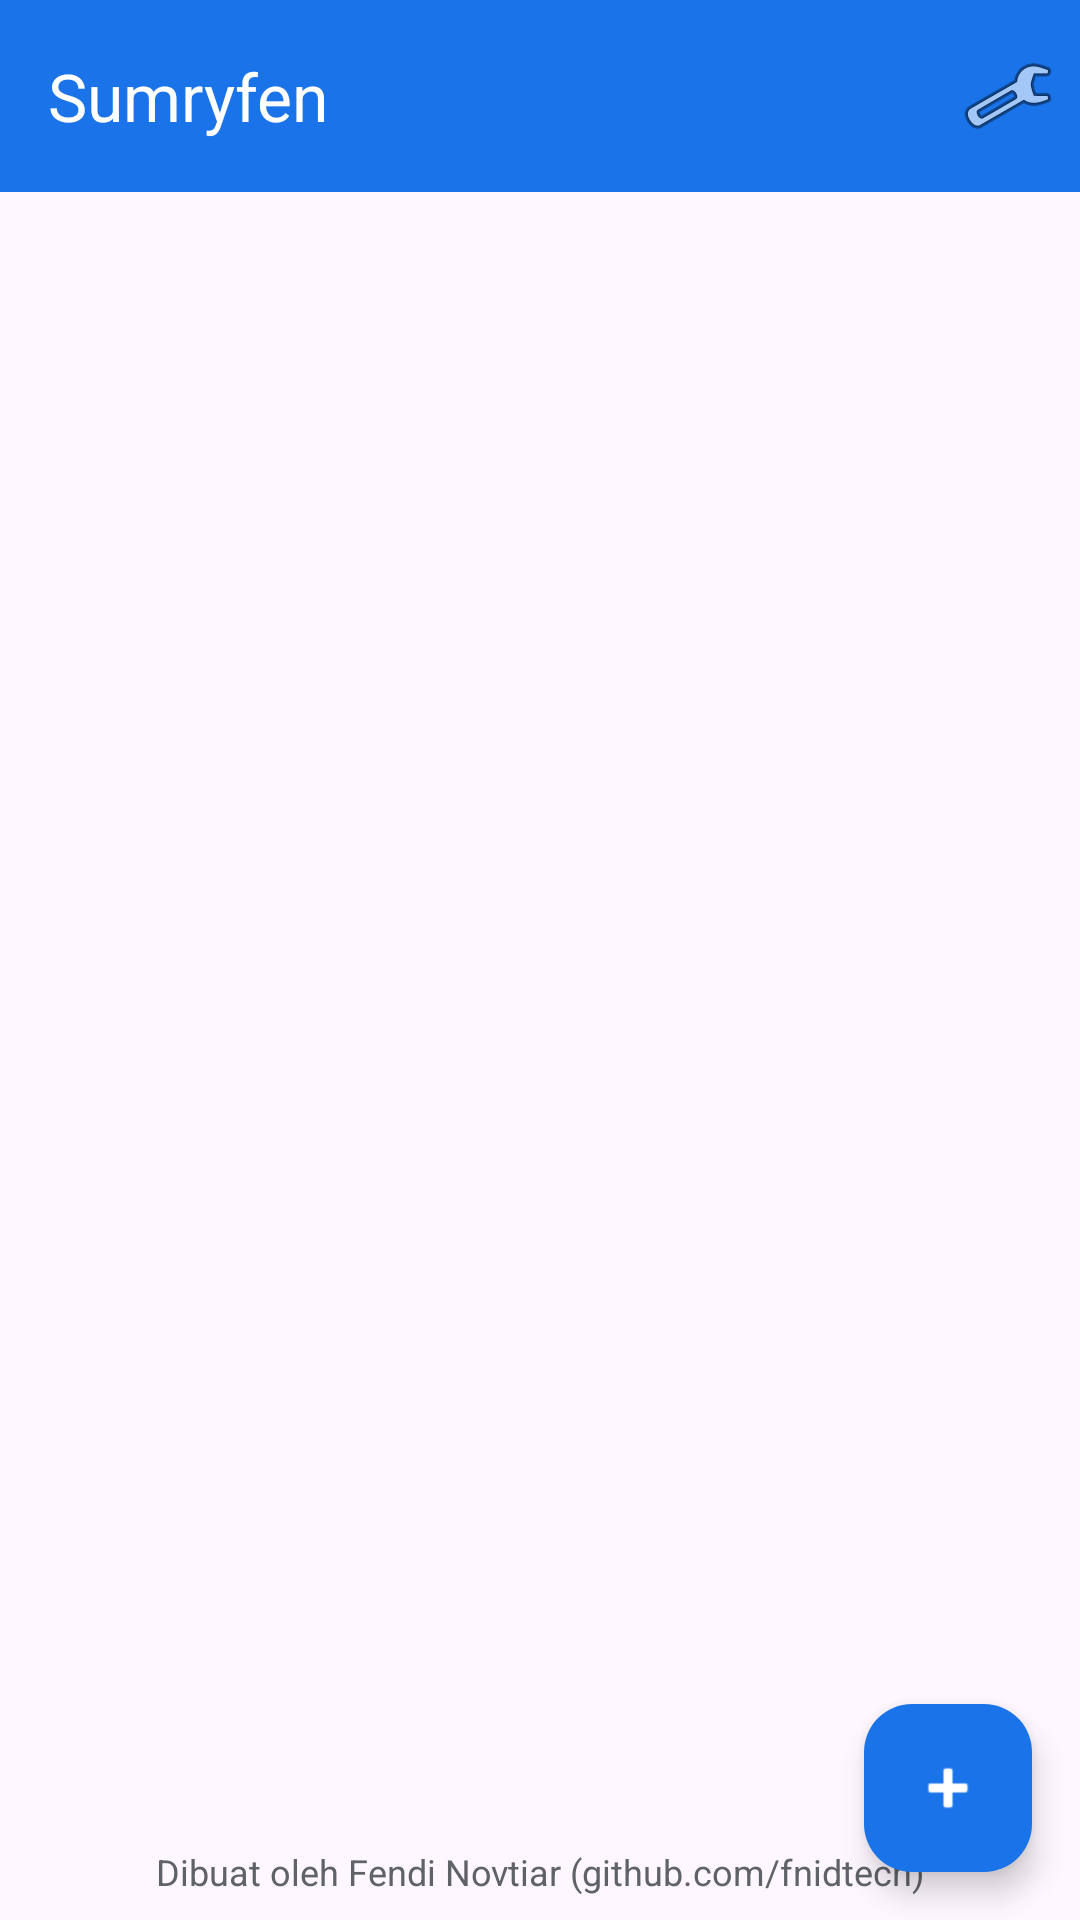

Where to tap for icons on this 1080w x 1920h app screen, as (x,y):
Meeting Baru: (948,1788)
Pengaturan: (1008,96)
